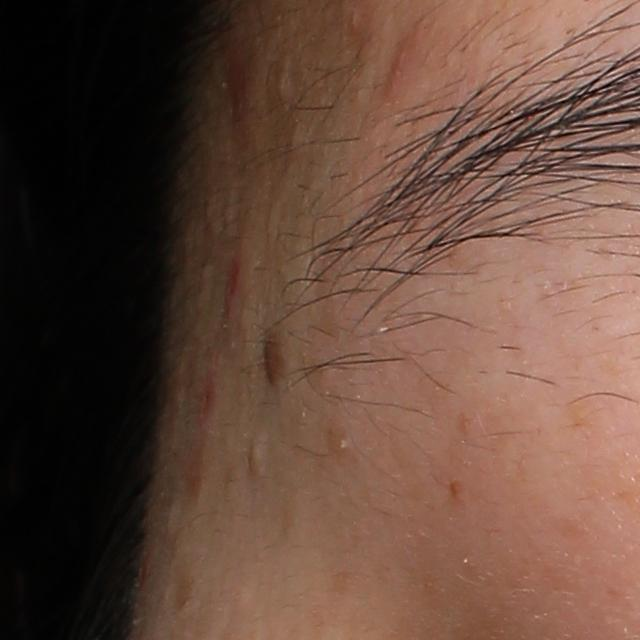comedo: (329, 432, 354, 457)
melasma: (446, 478, 468, 505)
nevus: (260, 326, 291, 387)
papule: (386, 39, 414, 97)
